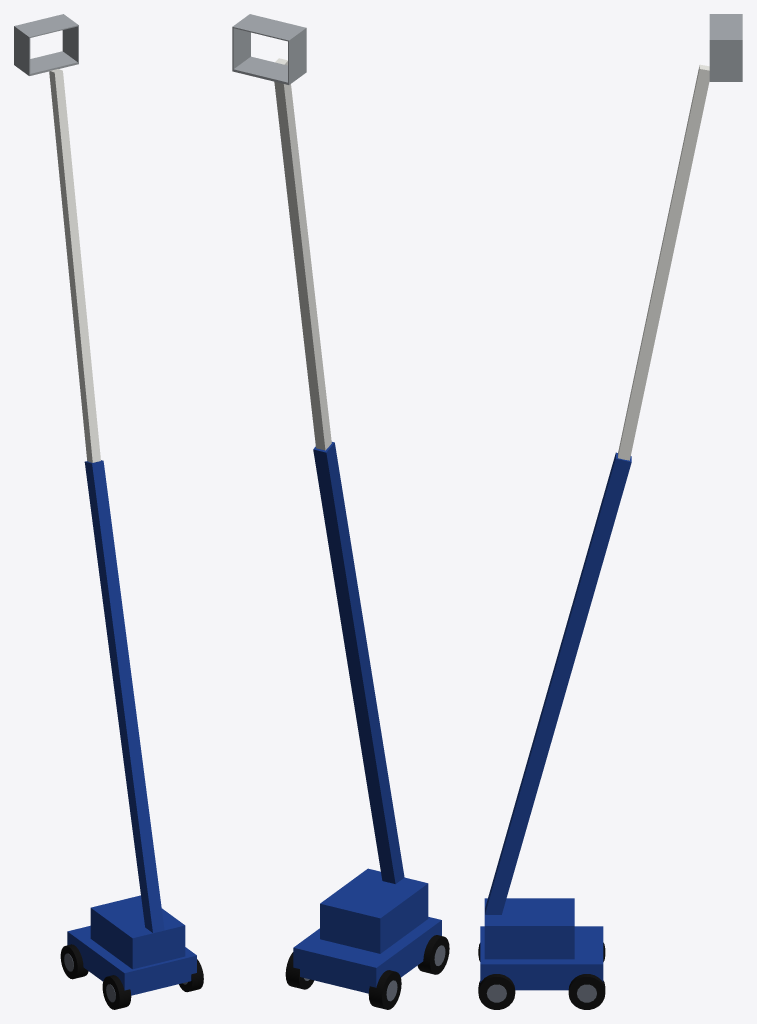
Rendered from plant.access.boom_lift_26.glb.
3 renders of one model, left to right at view 1: azimuth 30°, elevation 25°; view 2: azimuth 150°, elevation 25°; view 3: azimuth 270°, elevation 25°, orthographic. The views are drawn at different scales.
Visible parts, largest first — view 1: main__plastic_blue, main__paint_white, main__steel_galvanised, main__rubber; view 2: main__plastic_blue, main__paint_white, main__steel_galvanised, main__rubber; view 3: main__plastic_blue, main__paint_white, main__steel_galvanised, main__rubber, main__steel_painted.
Boxes of the visible parts, x1,y1,x2,y2 form: main__plastic_blue: [67, 460, 196, 995]; main__paint_white: [49, 69, 100, 462]; main__steel_galvanised: [14, 14, 78, 75]; main__rubber: [60, 944, 203, 1009]; main__plastic_blue: [293, 442, 441, 993]; main__paint_white: [274, 58, 331, 450]; main__steel_galvanised: [232, 14, 306, 84]; main__rubber: [285, 935, 449, 1009]; main__plastic_blue: [480, 452, 631, 990]; main__paint_white: [618, 64, 709, 460]; main__steel_galvanised: [709, 14, 742, 81]; main__rubber: [478, 942, 605, 1009]; main__steel_painted: [486, 984, 596, 1002].
Size of the model in its own units: 2.57 by 25.9 by 6.45.
